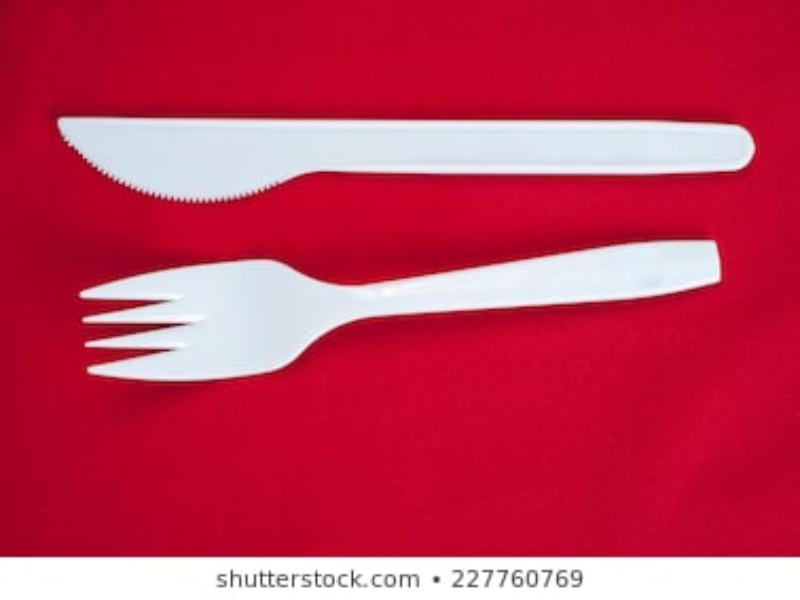plastic-silverware: (75, 236, 736, 384), (53, 107, 770, 208)
